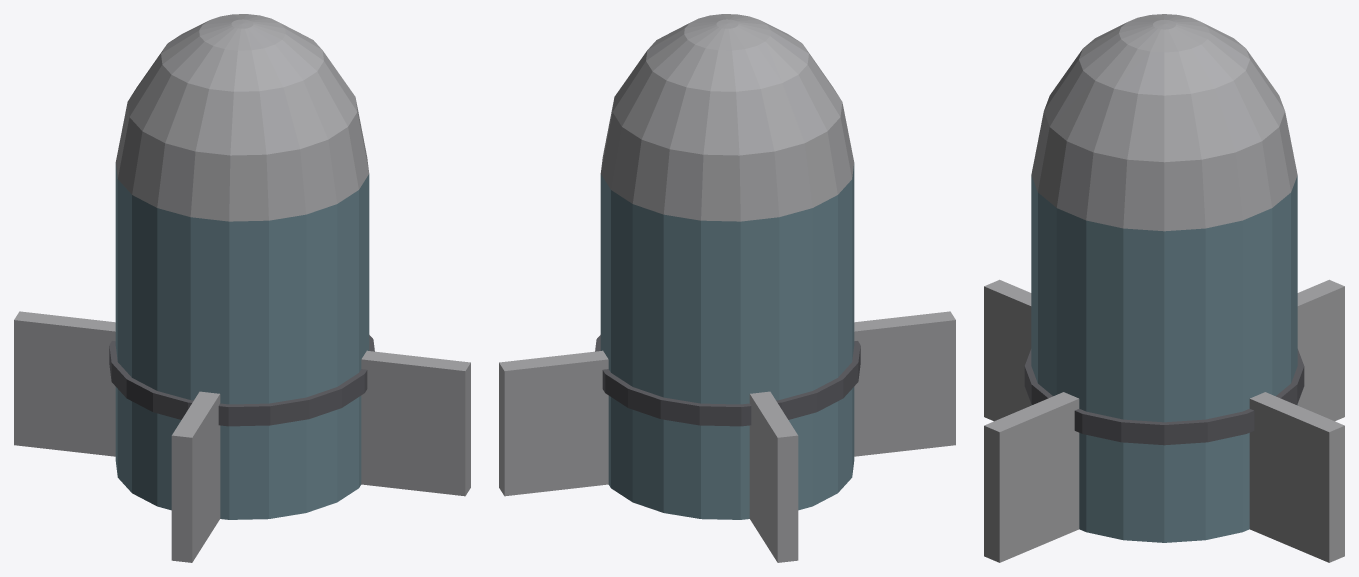
Rendered from vge_warpod_emp.obj.
The picture shows the model from 3 angles, left to right: view 1: azimuth 30°, elevation 25°; view 2: azimuth 150°, elevation 25°; view 3: azimuth 270°, elevation 25°; orthographic projection. The views are drawn at different scales.
Visible parts, largest first — view 1: vge_warpod_emp_0, vge_warpod_emp_2, vge_warpod_emp_6, vge_warpod_emp_4, vge_warpod_emp_5, vge_warpod_emp_1; view 2: vge_warpod_emp_0, vge_warpod_emp_2, vge_warpod_emp_3, vge_warpod_emp_5, vge_warpod_emp_4, vge_warpod_emp_1; view 3: vge_warpod_emp_0, vge_warpod_emp_2, vge_warpod_emp_3, vge_warpod_emp_6, vge_warpod_emp_4, vge_warpod_emp_5, vge_warpod_emp_1.
Boxes of the visible parts, x1=… form: vge_warpod_emp_0: x1=115, y1=163, x2=369, y2=519; vge_warpod_emp_2: x1=115, y1=14, x2=369, y2=221; vge_warpod_emp_6: x1=361, y1=350, x2=470, y2=496; vge_warpod_emp_4: x1=14, y1=311, x2=115, y2=456; vge_warpod_emp_5: x1=171, y1=391, x2=220, y2=562; vge_warpod_emp_1: x1=109, y1=335, x2=374, y2=426; vge_warpod_emp_0: x1=600, y1=163, x2=854, y2=519; vge_warpod_emp_2: x1=600, y1=14, x2=854, y2=221; vge_warpod_emp_3: x1=499, y1=350, x2=608, y2=496; vge_warpod_emp_5: x1=854, y1=311, x2=955, y2=456; vge_warpod_emp_4: x1=749, y1=391, x2=798, y2=562; vge_warpod_emp_1: x1=595, y1=335, x2=860, y2=426; vge_warpod_emp_0: x1=1031, y1=175, x2=1297, y2=542; vge_warpod_emp_2: x1=1031, y1=14, x2=1297, y2=231; vge_warpod_emp_3: x1=1249, y1=392, x2=1344, y2=562; vge_warpod_emp_6: x1=984, y1=392, x2=1079, y2=562; vge_warpod_emp_4: x1=1297, y1=279, x2=1344, y2=421; vge_warpod_emp_5: x1=984, y1=279, x2=1031, y2=421; vge_warpod_emp_1: x1=1024, y1=349, x2=1304, y2=445.
Bounding box in the file's own units: 0.6506 × 0.92 × 0.6506.
